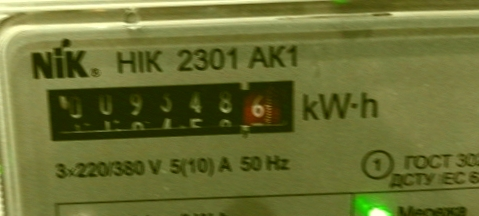0: (66, 94, 83, 121), (97, 90, 112, 117)
3: (158, 89, 173, 114)
4: (184, 85, 204, 116)
6: (248, 91, 266, 121)
8: (217, 87, 233, 116)
9: (128, 92, 143, 119)
screen: (28, 65, 309, 154)
